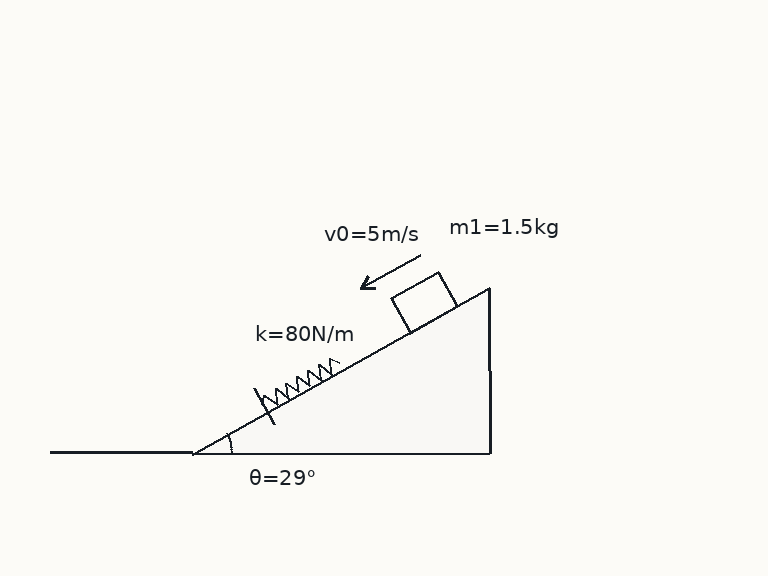block: (389, 270, 459, 334)
ramp: (190, 286, 491, 455)
spring: (260, 356, 341, 406)
